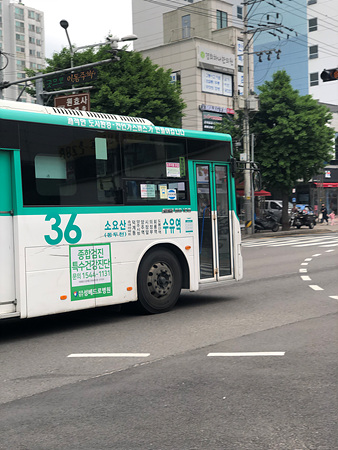entrance: (190, 157, 237, 287)
